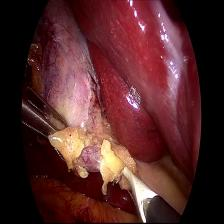Grasper: (22, 83, 71, 149)
Hook: (116, 161, 157, 219)
